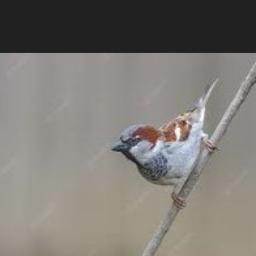Sparrow: (111, 78, 219, 209)
